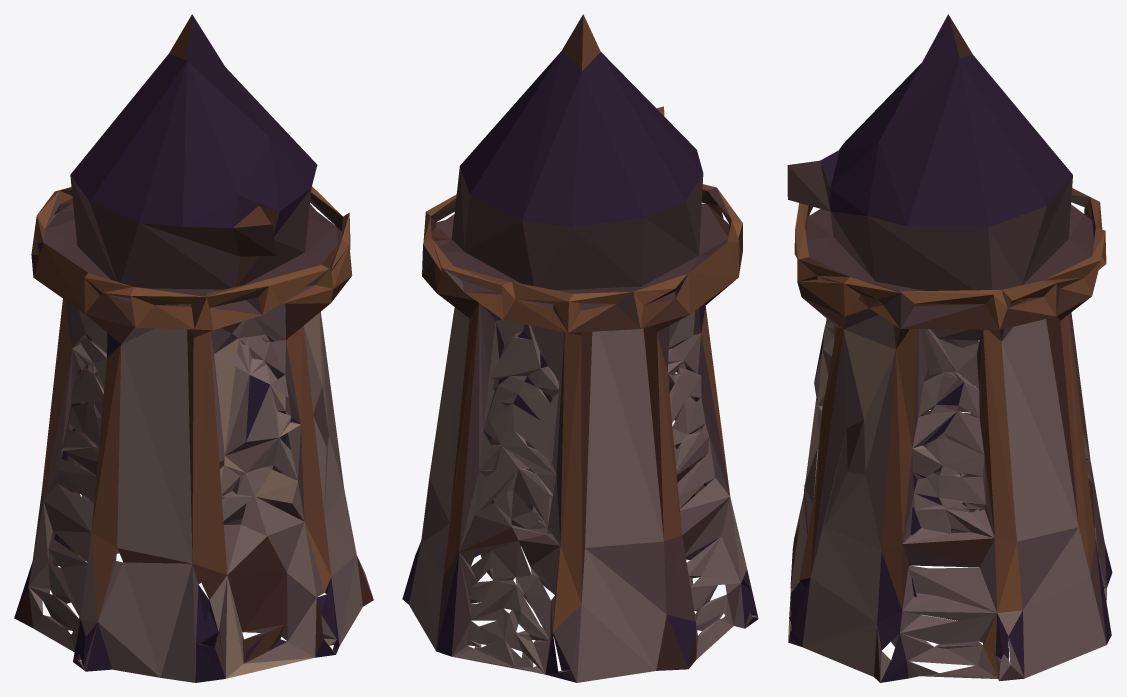
Rendered from windmill.glb.
3 views of the same model, side by side, from view 1: azimuth 30°, elevation 25°; view 2: azimuth 150°, elevation 25°; view 3: azimuth 270°, elevation 25° (orthographic).
Parts seen in each view (by area): view 1: windmill; view 2: windmill; view 3: windmill.
Part boxes in pixels (x1,y1,x2,y2): windmill: (14, 14, 373, 682); windmill: (402, 14, 758, 682); windmill: (787, 14, 1112, 682).
Bounding box in the file's own units: 5.74 × 11.3 × 5.56.
